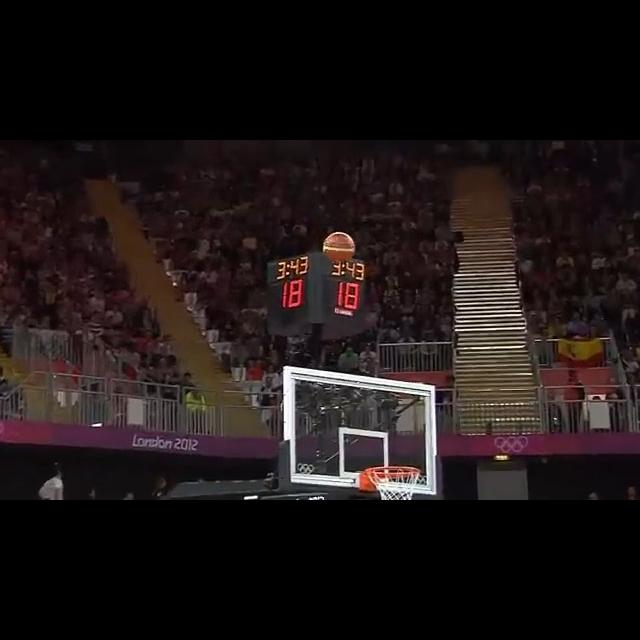basketball: (322, 228, 355, 267)
hoop: (364, 465, 426, 500)
